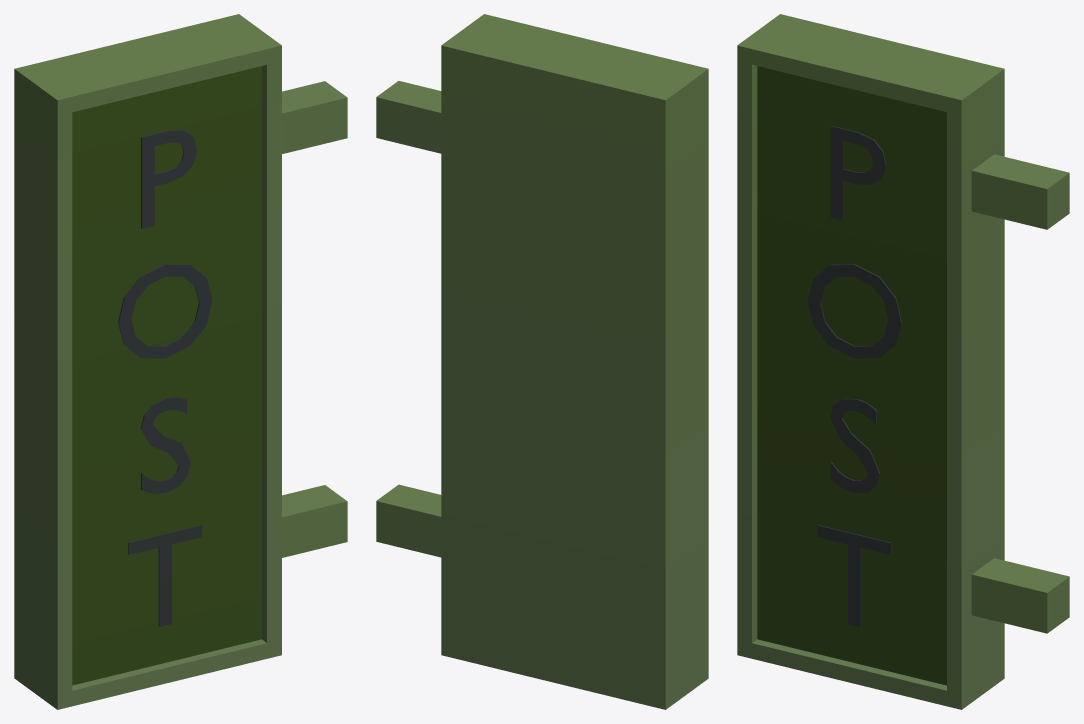
File: Banner_07.fbx
The picture shows the model from 3 angles, left to right: view 1: azimuth 30°, elevation 25°; view 2: azimuth 150°, elevation 25°; view 3: azimuth 330°, elevation 25°; orthographic projection.
Visible parts, largest first — view 1: Banner_07; view 2: Banner_07; view 3: Banner_07.
Part boxes in pixels (x1,y1,x2,y2): Banner_07: (14,14,347,709); Banner_07: (376,14,708,709); Banner_07: (737,14,1069,709).
Bounding box in the file's own units: 1.13 × 2.19 × 0.2801.
